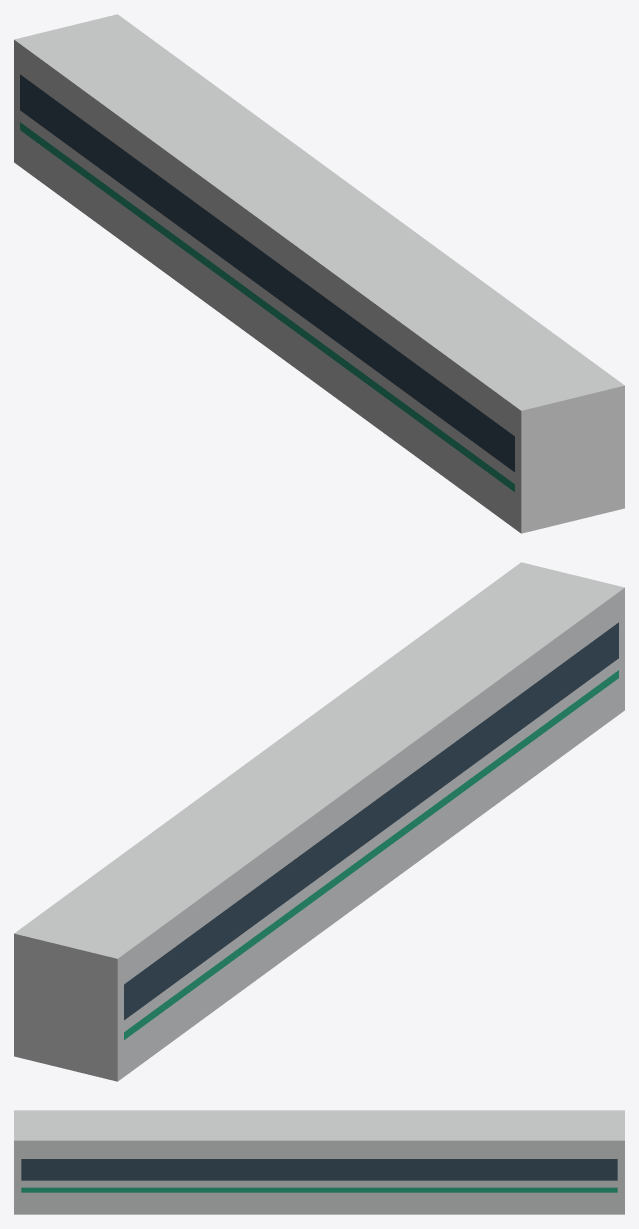
Rendered from middle_far.fbx.
3 views of the same model, one above another, from view 1: azimuth 30°, elevation 25°; view 2: azimuth 150°, elevation 25°; view 3: azimuth 270°, elevation 25° (orthographic). The views are drawn at different scales.
Parts seen in each view (by area): view 1: 21_middle_far; view 2: 21_middle_far; view 3: 21_middle_far.
Boxes of the visible parts, x1=… form: 21_middle_far: x1=14, y1=14, x2=624, y2=533; 21_middle_far: x1=14, y1=562, x2=624, y2=1081; 21_middle_far: x1=14, y1=1110, x2=624, y2=1214.
Bounding box in the file's own units: 2.96 × 3.34 × 25.
